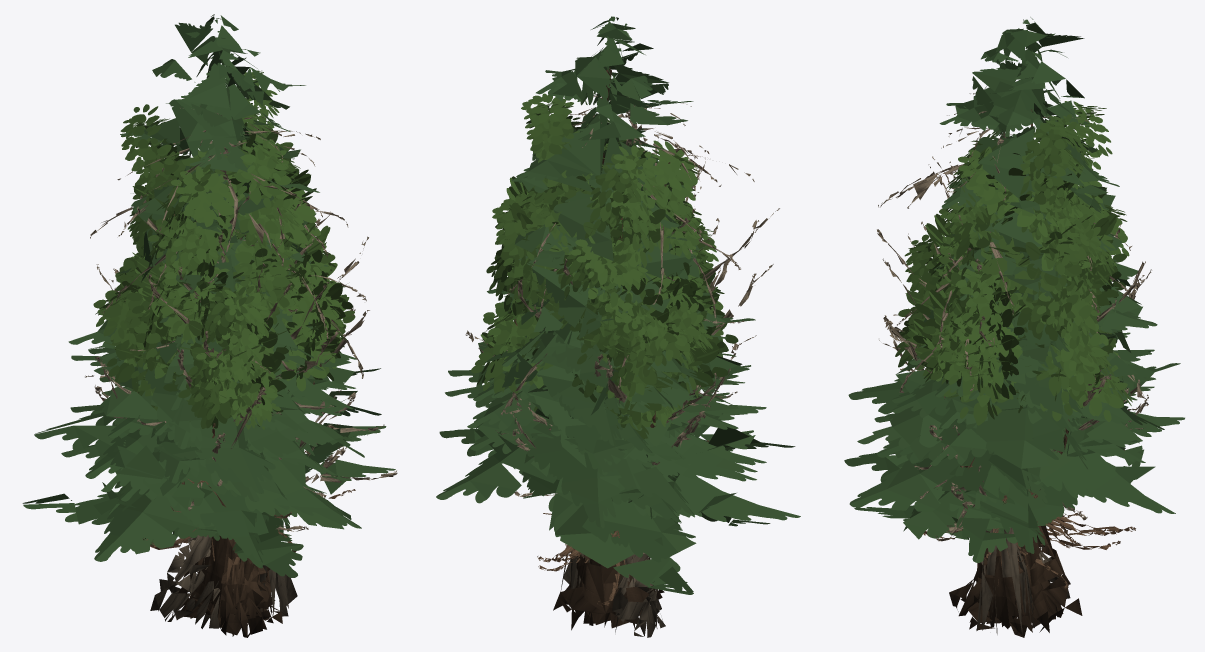
File: natur_kit_baeume.glb
The picture shows the model from 3 angles, left to right: view 1: azimuth 30°, elevation 25°; view 2: azimuth 150°, elevation 25°; view 3: azimuth 270°, elevation 25°; orthographic projection.
Parts seen in each view (by area): view 1: Kiefer3, Laubbaum2, Kiefer2, Laubbaum3, Laubbaum1, Kiefer1, Kiefer4, Totbaum2, Totbaum3, Totbaum1, Kiefer5; view 2: Kiefer3, Laubbaum3, Kiefer2, Laubbaum2, Kiefer1, Laubbaum1, Kiefer4, Totbaum2, Totbaum3, Totbaum1, Kiefer5; view 3: Kiefer3, Laubbaum3, Kiefer2, Laubbaum2, Laubbaum1, Kiefer1, Kiefer4, Totbaum3, Kiefer5, Totbaum1, Totbaum2.
Boxes of the visible parts, x1,y1,x2,y2 form: Kiefer3: [34, 14, 380, 627]; Laubbaum2: [120, 70, 340, 627]; Kiefer2: [22, 218, 386, 562]; Laubbaum3: [93, 122, 355, 618]; Laubbaum1: [124, 215, 352, 635]; Kiefer1: [92, 333, 395, 637]; Kiefer4: [61, 220, 357, 615]; Totbaum2: [94, 191, 397, 621]; Totbaum3: [90, 98, 366, 616]; Totbaum1: [85, 236, 384, 628]; Kiefer5: [102, 234, 356, 615]; Kiefer3: [448, 16, 795, 606]; Laubbaum3: [471, 123, 738, 630]; Kiefer2: [436, 175, 800, 594]; Laubbaum2: [521, 93, 724, 625]; Kiefer1: [511, 236, 770, 599]; Laubbaum1: [536, 196, 724, 623]; Kiefer4: [470, 229, 766, 562]; Totbaum2: [474, 136, 779, 637]; Totbaum3: [500, 93, 754, 606]; Totbaum1: [465, 218, 732, 615]; Kiefer5: [473, 275, 725, 571]; Kiefer3: [848, 17, 1180, 605]; Laubbaum3: [895, 153, 1132, 632]; Kiefer2: [844, 255, 1184, 617]; Laubbaum2: [898, 101, 1117, 630]; Laubbaum1: [899, 201, 1129, 637]; Kiefer1: [854, 206, 1155, 616]; Kiefer4: [874, 289, 1154, 548]; Totbaum3: [878, 93, 1148, 634]; Kiefer5: [892, 237, 1135, 626]; Totbaum1: [882, 221, 1145, 498]; Totbaum2: [877, 156, 1151, 598].
Size of the model in its own units: 6.21 by 10.58 by 5.66.
4 materials, 4 textured.
